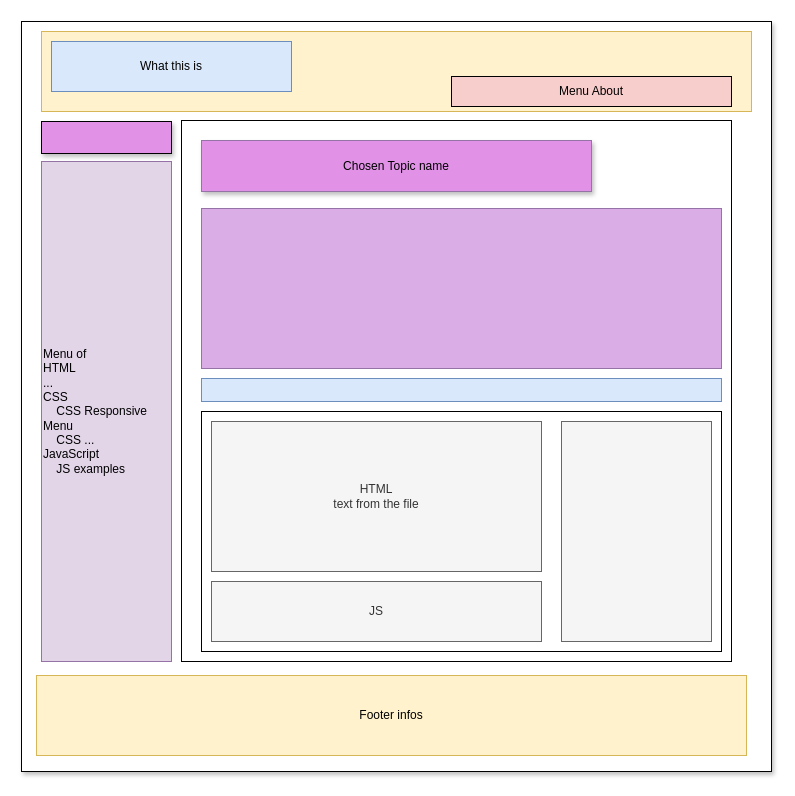
This 795x796 diagram has some shape labels left out. Each missing label, with the centre of its shape:
Choose topic below:: (x=107, y=138)
CSS: (x=636, y=531)
Description Text, Link to Open the page in new Tab to try out: (x=461, y=390)
Picture of outcome: (x=461, y=288)
